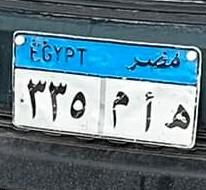3: (25, 79, 47, 121), (49, 78, 68, 122)
5: (68, 89, 90, 121)
alif: (141, 91, 157, 132)
haa: (164, 97, 191, 136)
meem: (108, 89, 130, 131)
